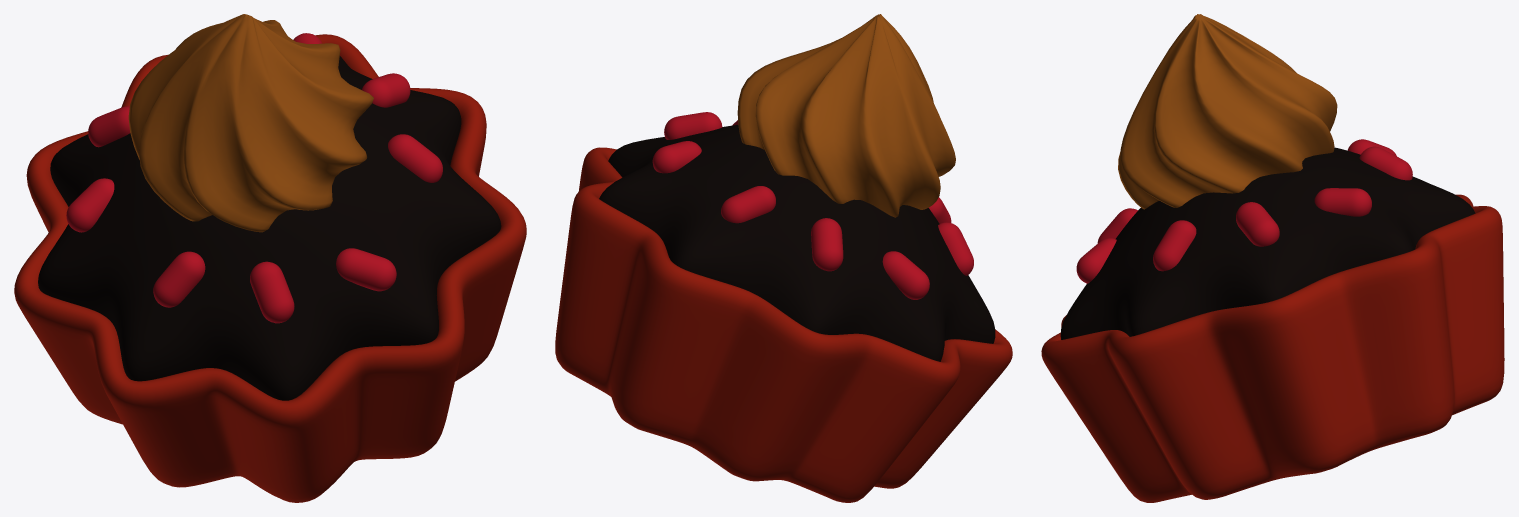
Rendered from Cupcake.obj.
The picture shows the model from 3 angles, left to right: view 1: azimuth 30°, elevation 25°; view 2: azimuth 150°, elevation 25°; view 3: azimuth 270°, elevation 25°; orthographic projection. The views are drawn at different scales.
Parts seen in each view (by area): view 1: Cupcake.002_Circle.007, Cupcake.001_Circle.006, Cupcake_Circle.011, Cupcake.003_Cube.045; view 2: Cupcake.001_Circle.006, Cupcake.002_Circle.007, Cupcake_Circle.011, Cupcake.003_Cube.045; view 3: Cupcake.001_Circle.006, Cupcake.002_Circle.007, Cupcake_Circle.011, Cupcake.003_Cube.045.
Part boxes in pixels (x1,y1,x2,y2): Cupcake.002_Circle.007: (38, 56, 501, 400); Cupcake.001_Circle.006: (14, 34, 526, 502); Cupcake_Circle.011: (128, 14, 373, 232); Cupcake.003_Cube.045: (66, 33, 442, 323); Cupcake.001_Circle.006: (555, 147, 1012, 502); Cupcake.002_Circle.007: (599, 125, 995, 361); Cupcake_Circle.011: (737, 14, 955, 217); Cupcake.003_Cube.045: (652, 112, 973, 299); Cupcake.001_Circle.006: (1041, 194, 1504, 502); Cupcake.002_Circle.007: (1060, 147, 1475, 339); Cupcake_Circle.011: (1118, 14, 1337, 209); Cupcake.003_Cube.045: (1076, 139, 1412, 283).
Bounding box in the file's own units: 4.24 × 4.54 × 4.24.
